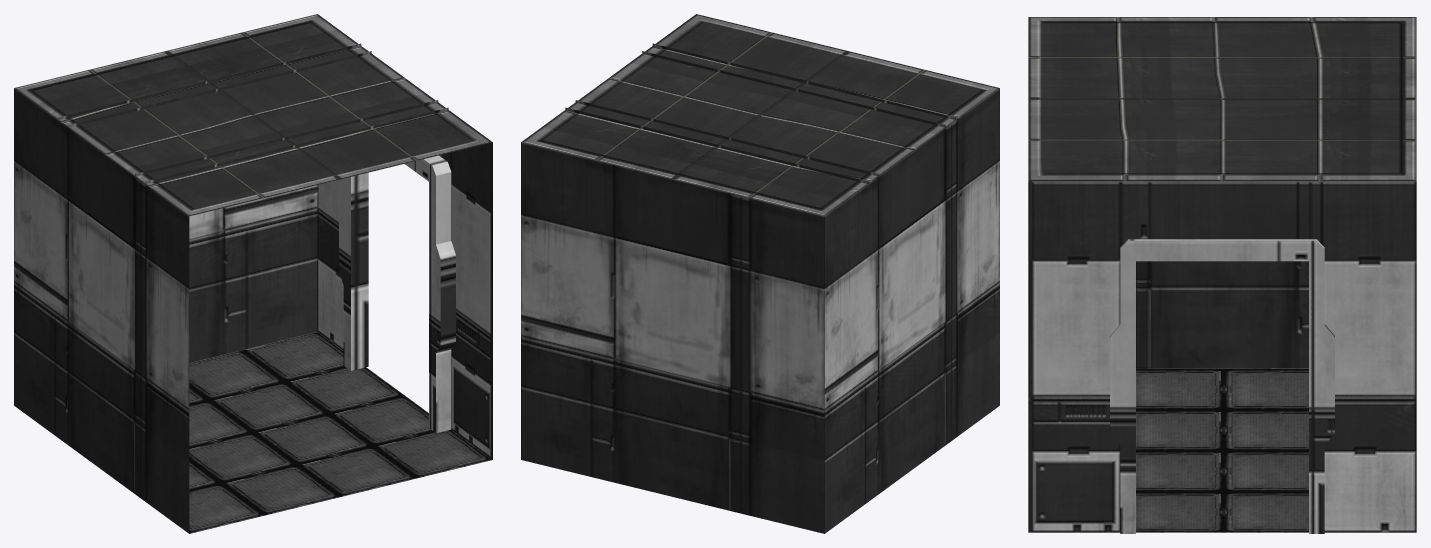
File: CorridorCap2.fbx
3 renders of one model, left to right at view 1: azimuth 30°, elevation 25°; view 2: azimuth 150°, elevation 25°; view 3: azimuth 270°, elevation 25°, orthographic. The views are drawn at different scales.
Parts seen in each view (by area): view 1: CorridorCap2; view 2: CorridorCap2; view 3: CorridorCap2.
Boxes of the visible parts, x1,y1,x2,y2 form: CorridorCap2: (14,14,492,533); CorridorCap2: (521,14,999,533); CorridorCap2: (1028,17,1416,533).
Size of the model in its own units: 5.04 by 5.04 by 5.
